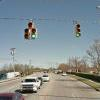Traffic light: (16, 17, 43, 47)
